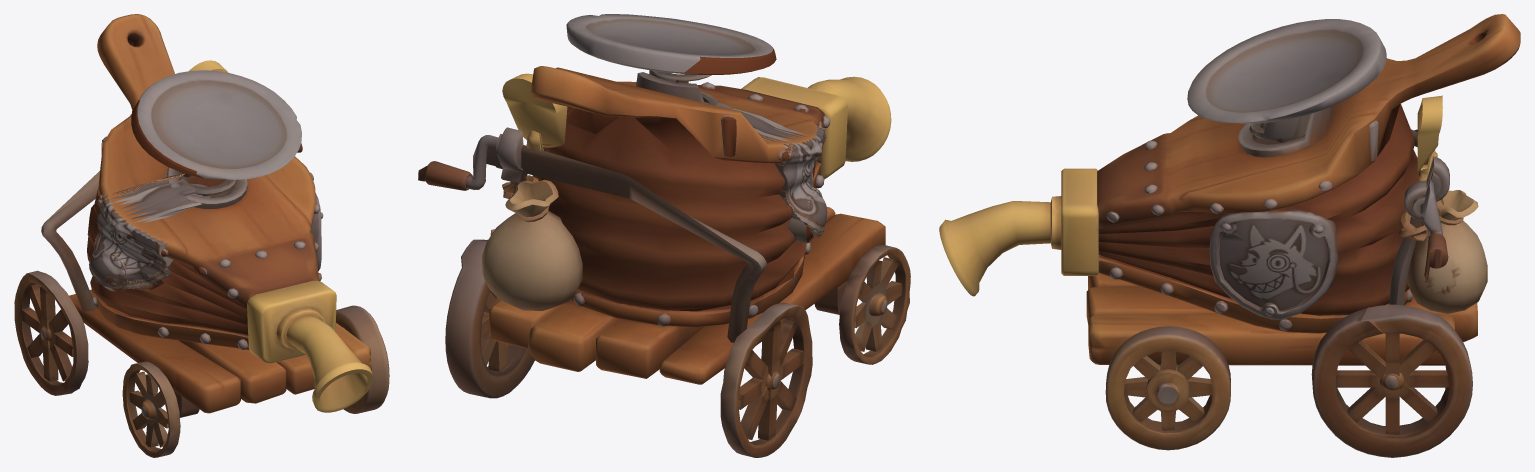
Rendered from bellows_machine_v4_busted.glb.
3 renders of one model, left to right at view 1: azimuth 30°, elevation 25°; view 2: azimuth 150°, elevation 25°; view 3: azimuth 270°, elevation 25°, orthographic. The views are drawn at different scales.
Parts seen in each view (by area): view 1: bellows_machine_v2; view 2: bellows_machine_v2; view 3: bellows_machine_v2.
Boxes of the visible parts, bbox=[...] form: bellows_machine_v2: bbox=[14, 14, 389, 457]; bellows_machine_v2: bbox=[418, 14, 910, 457]; bellows_machine_v2: bbox=[939, 14, 1520, 457].
Size of the model in its own units: 2.96 by 3.19 by 4.46.
1 material, 1 textured.
